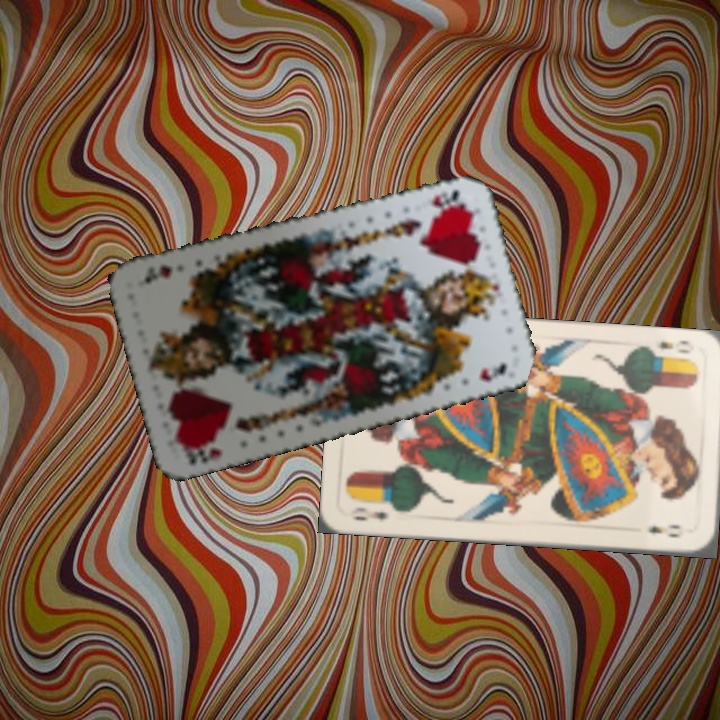EO: (345, 503, 390, 523), (652, 336, 693, 356)
HK: (182, 435, 226, 469), (427, 185, 463, 211)
